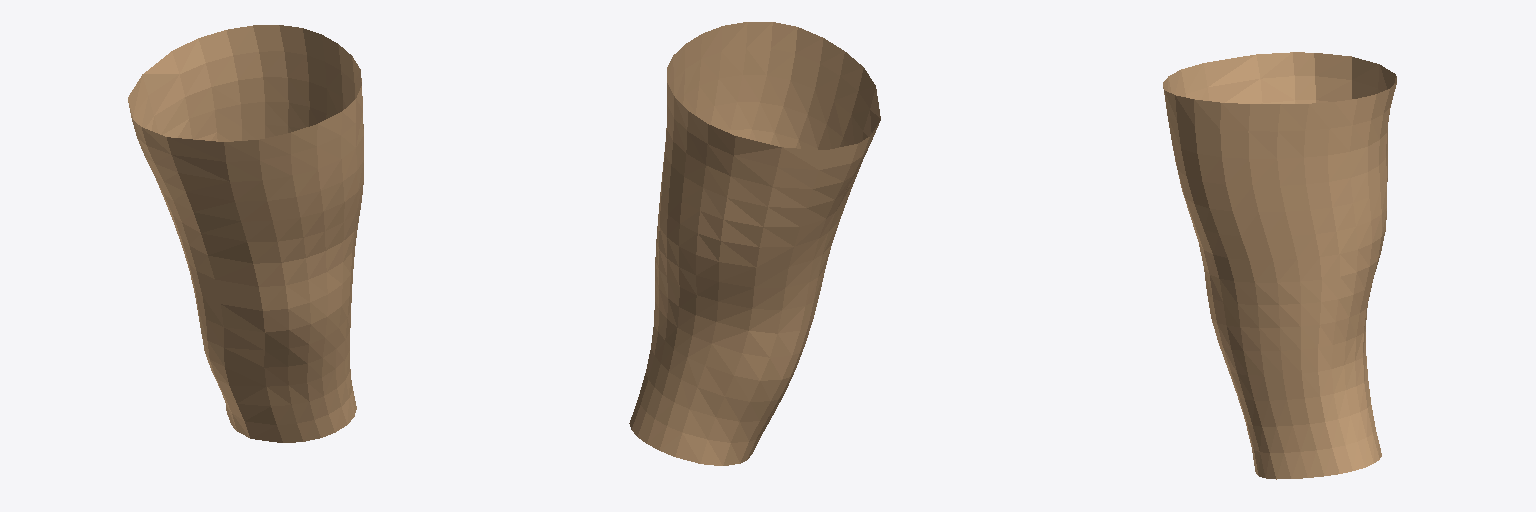
File: left_hip.obj
The picture shows the model from 3 angles: view 1: azimuth 30°, elevation 25°; view 2: azimuth 150°, elevation 25°; view 3: azimuth 270°, elevation 25°; orthographic projection.
Visible parts, largest first — view 1: polySurface6 polySurface5 polySurface2 polySurface1 jackie; view 2: polySurface6 polySurface5 polySurface2 polySurface1 jackie; view 3: polySurface6 polySurface5 polySurface2 polySurface1 jackie.
Part boxes in pixels (x1,y1,x2,y2): polySurface6 polySurface5 polySurface2 polySurface1 jackie: (128,25,363,442); polySurface6 polySurface5 polySurface2 polySurface1 jackie: (629,22,880,465); polySurface6 polySurface5 polySurface2 polySurface1 jackie: (1163,52,1396,479).
Bounding box in the file's own units: 2.11 × 3.57 × 1.98.